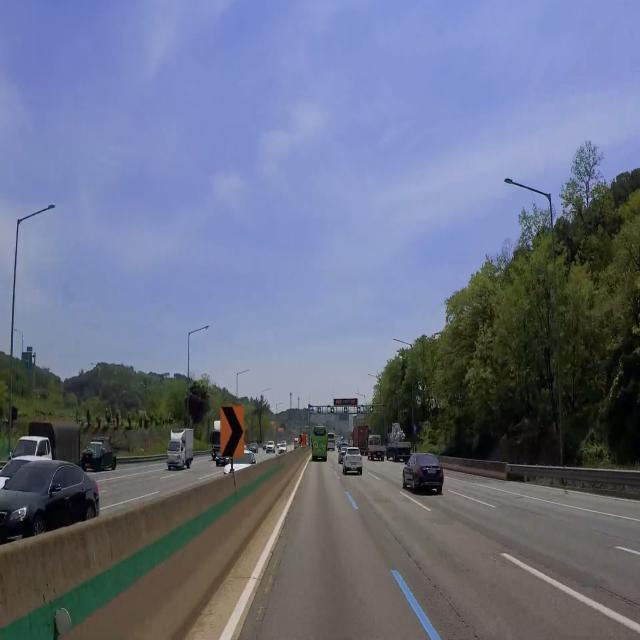car: (427, 466, 440, 477), (349, 461, 361, 468)
